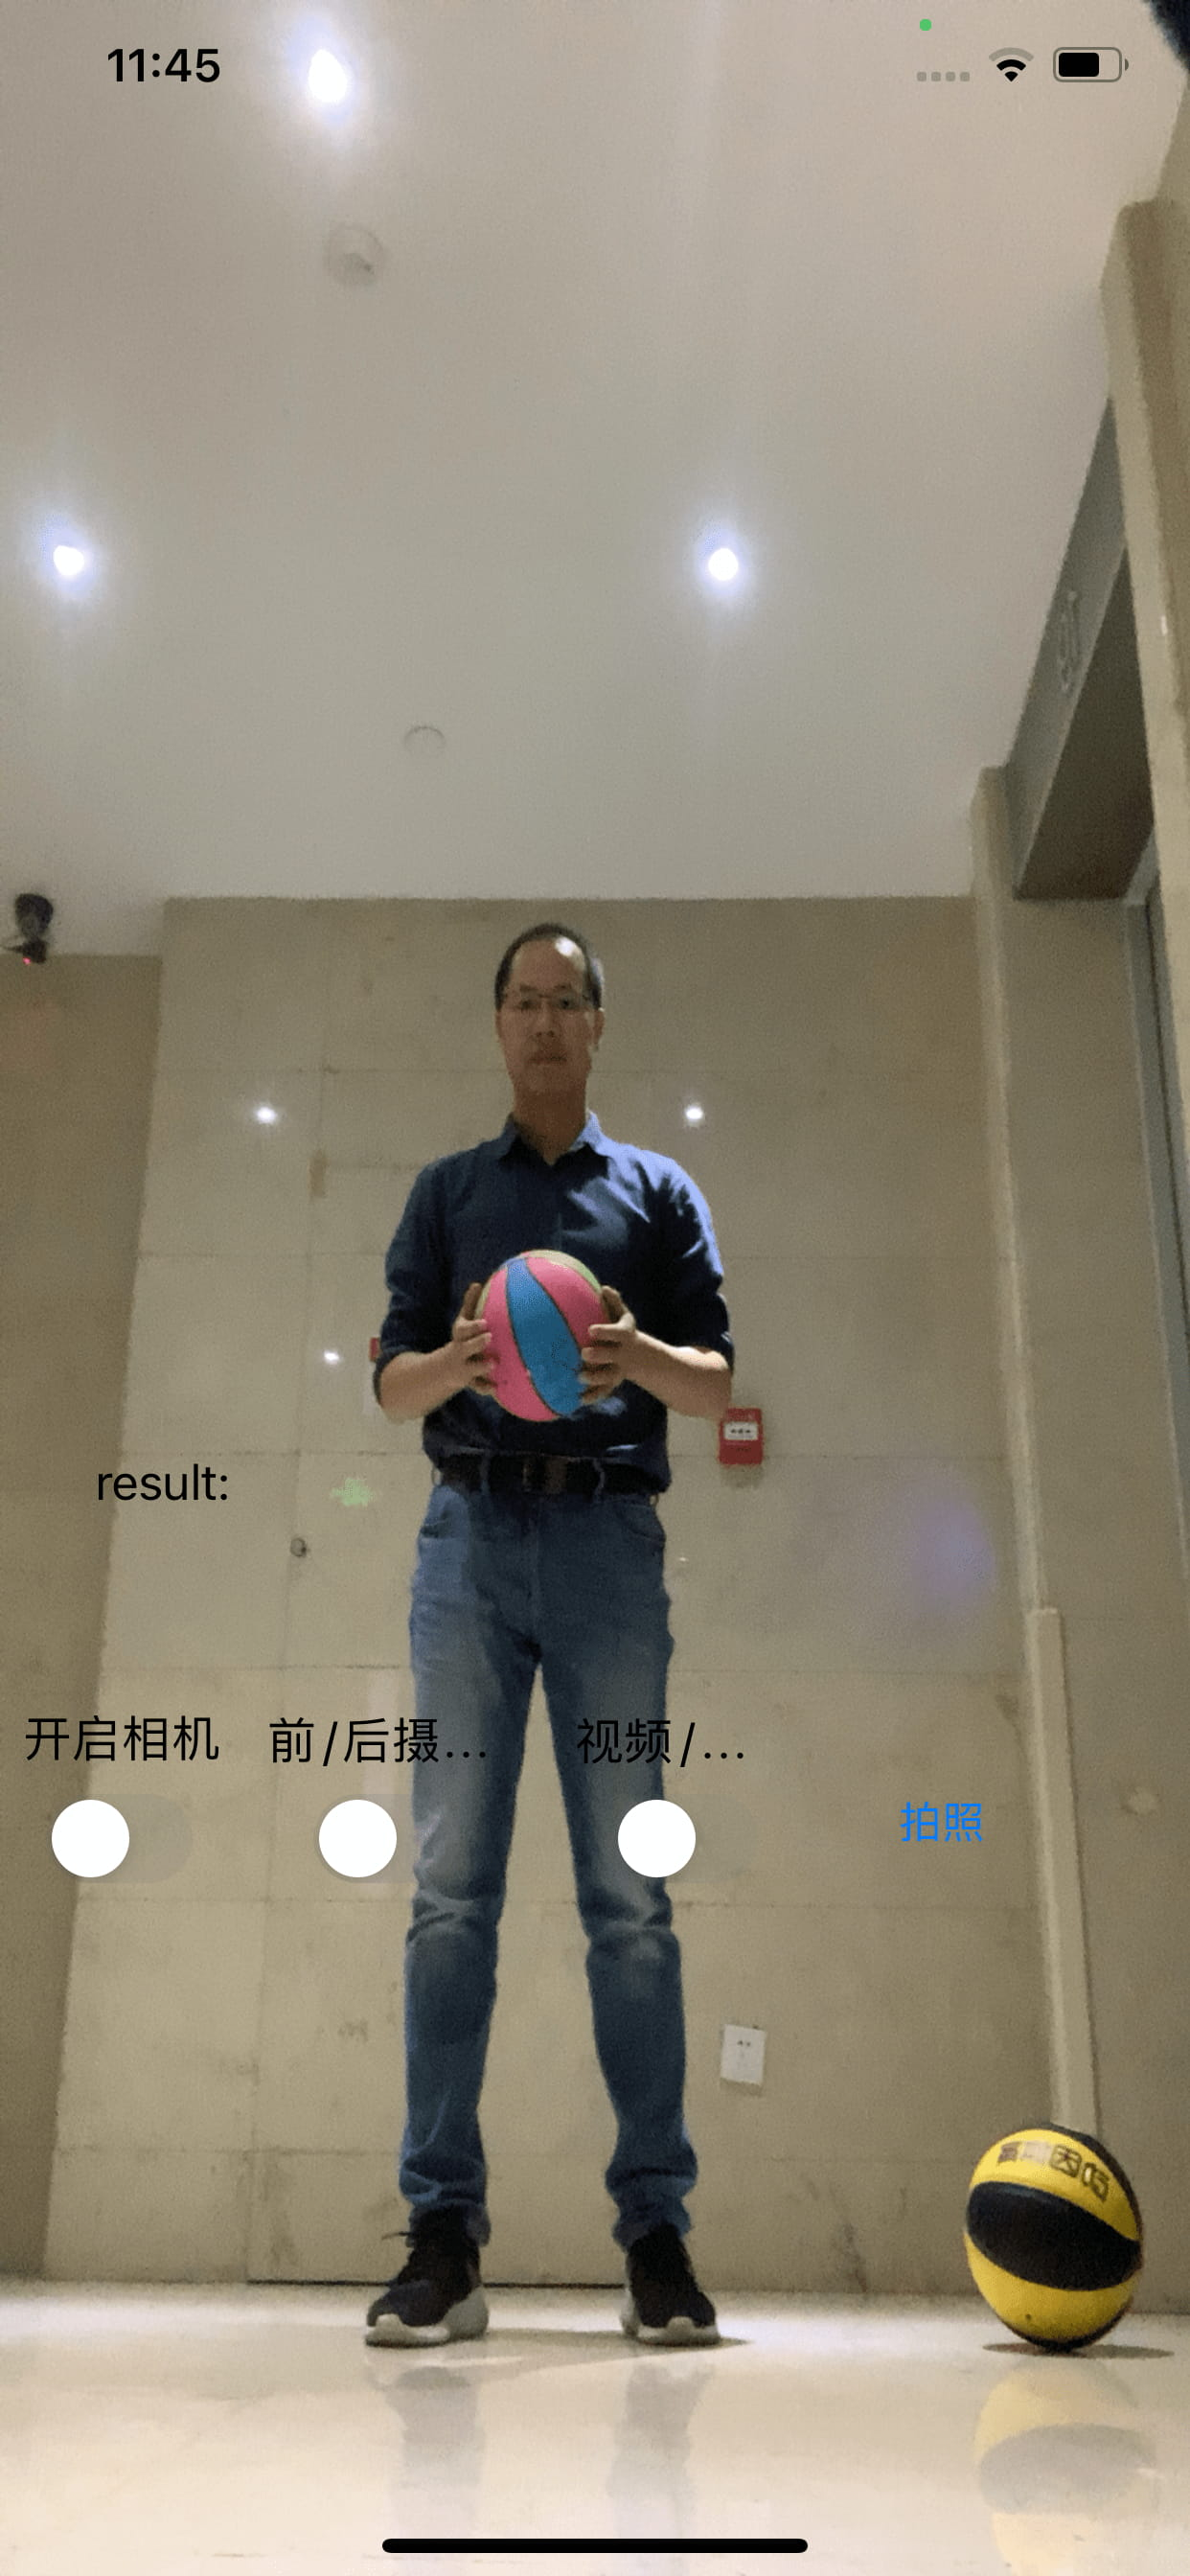ball: (966, 2119, 1152, 2356), (472, 1245, 621, 1424)
